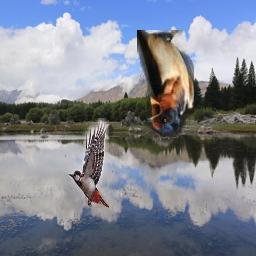Swallow: (138, 31, 195, 138)
Woodpecker: (69, 118, 110, 208)
